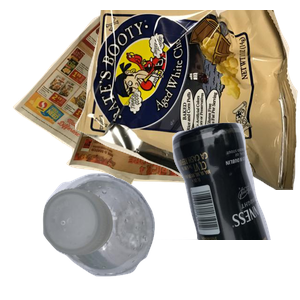glass: (106, 120, 300, 300)
paper: (10, 10, 217, 189)
plastic: (40, 170, 187, 300)
trash: (75, 10, 300, 190)
